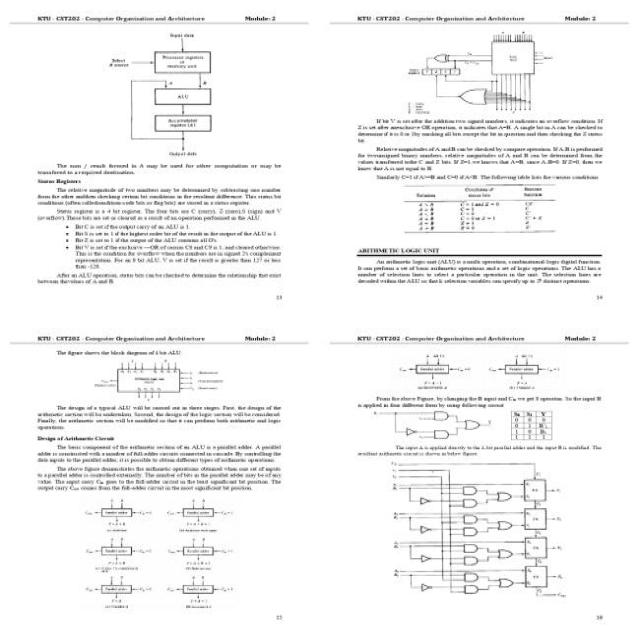Figure Detection - v3 Dataset Version2: (387, 458, 573, 606), (104, 27, 234, 159), (402, 27, 557, 116), (92, 357, 226, 403), (368, 409, 498, 443), (390, 348, 479, 391), (485, 348, 566, 394), (163, 574, 240, 614), (162, 495, 237, 535), (80, 536, 156, 575), (81, 495, 156, 534), (80, 576, 156, 612), (164, 536, 236, 572)
